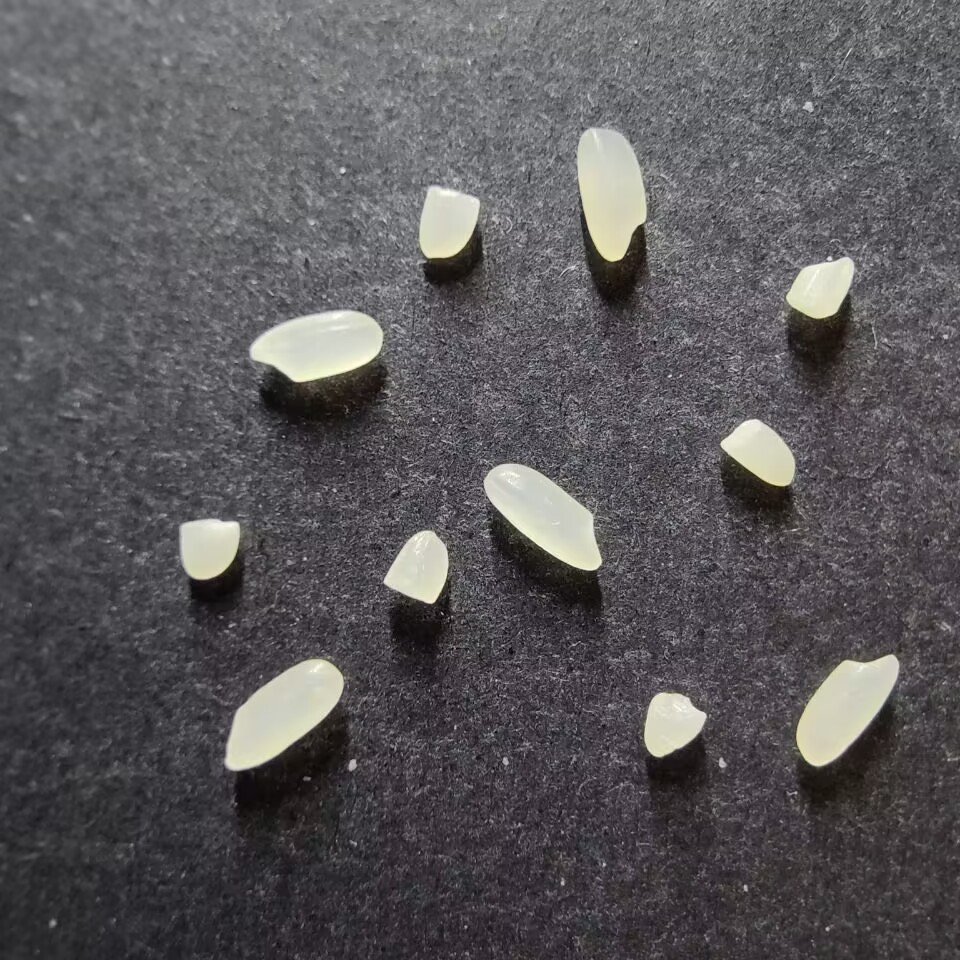broken: (719, 418, 796, 487), (382, 530, 448, 604), (418, 186, 480, 258), (786, 255, 854, 319), (642, 692, 707, 758), (179, 518, 239, 580)
rice: (223, 658, 343, 770), (483, 463, 602, 572), (795, 654, 899, 767), (249, 309, 383, 382), (575, 127, 647, 261)
